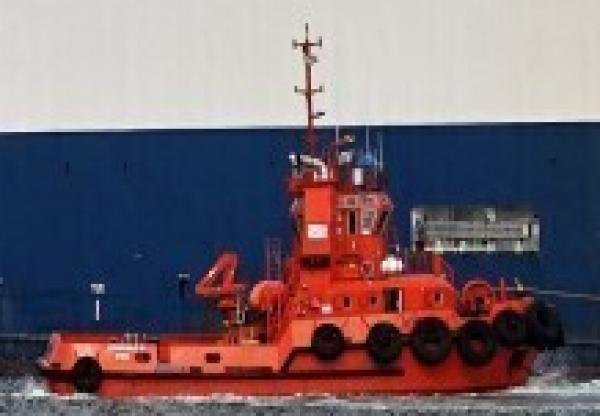Tug: (0, 3, 600, 416)
